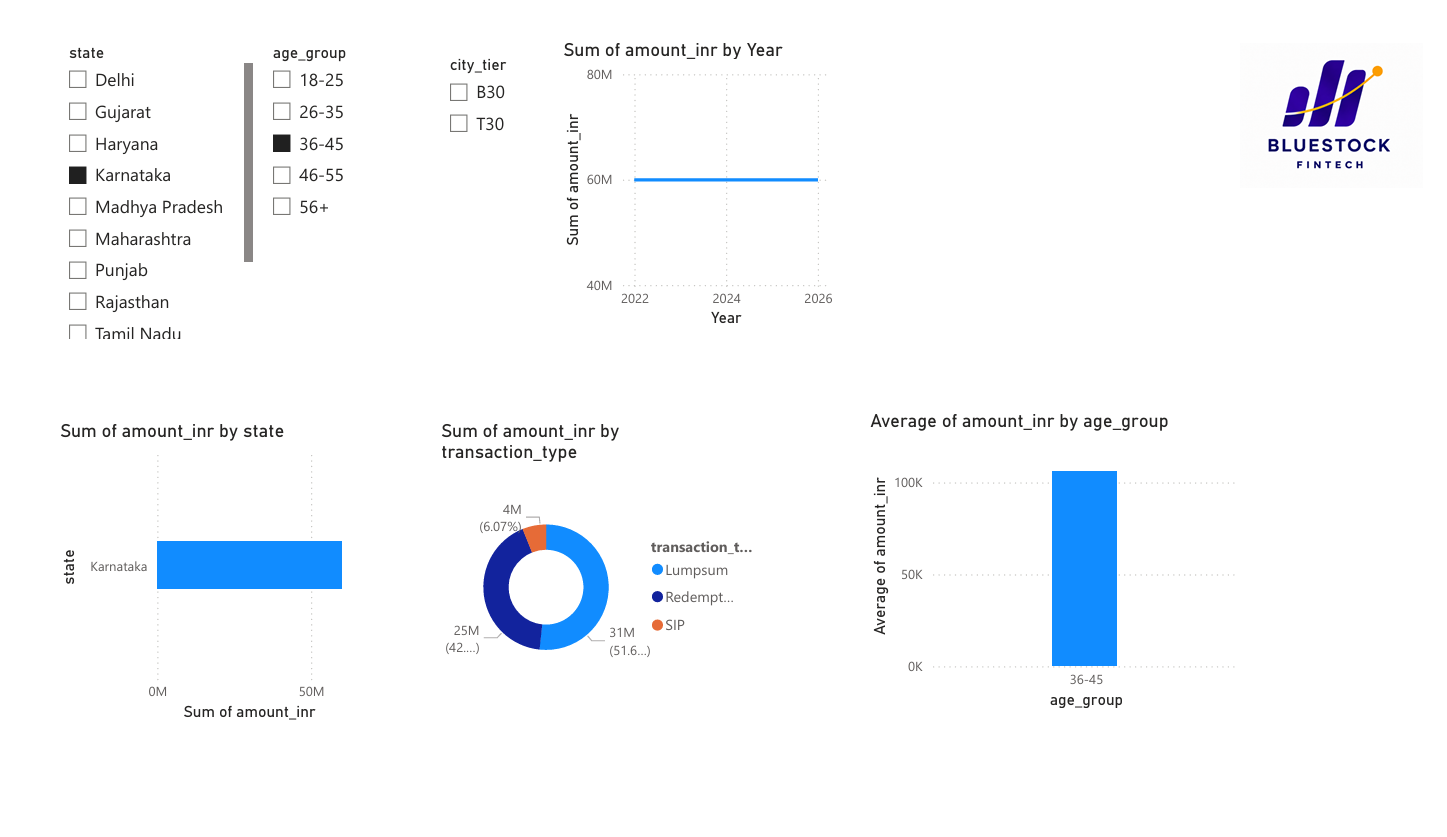

This screenshot's page, from the dashboard's own definition file:
{"tool":"powerbi","page":{"name":"Page 3","canvas":[1280,720],"ordinal":2},"visuals":[{"type":"slicer","fields":{"Values":["clean_transaction.state"]},"box":[26.7,11.1,187.8,280],"z":0},{"type":"slicer","fields":{"Values":["clean_transaction.city_tier"]},"box":[375.6,22.2,125.6,268.9],"z":1000},{"type":"slicer","fields":{"Values":["clean_transaction.age_group"]},"box":[214.4,11.1,143.3,268.9],"z":2000},{"type":"clusteredBarChart","fields":{"Category":["clean_transaction.state"],"Y":["Sum(clean_transaction.amount_inr)"]},"box":[26.7,360,280,280],"z":3000},{"type":"donutChart","fields":{"Category":["clean_transaction.transaction_type"],"Y":["Sum(clean_transaction.amount_inr)"]},"box":[375.6,360,300,268.9],"z":4000},{"type":"clusteredColumnChart","fields":{"Y":["Avg(clean_transaction.amount_inr)"],"Category":["clean_transaction.age_group"]},"box":[768.9,351.1,347.8,277.8],"z":5000},{"type":"lineChart","fields":{"Category":["10_benchmark_indices.date.Variation.Date Hierarchy.Year","10_benchmark_indices.date.Variation.Date Hierarchy.Quarter","10_benchmark_indices.date.Variation.Date Hierarchy.Month","10_benchmark_indices.date.Variation.Date Hierarchy.Day"],"Y":["Sum(clean_transaction.amount_inr)"]},"box":[487.8,11.1,256.7,268.9],"z":6000},{"type":"image","box":[1113.3,0,166.7,164.4],"z":6001}]}

Visuals, with their boxes in screenshot pixels (x1, y1, x2, y2), scaled from the page's 1280x720 canvas onto the 1447x837 screenshot:
slicer - clean_transaction.state: [30, 13, 242, 338]
slicer - clean_transaction.city_tier: [425, 26, 567, 338]
slicer - clean_transaction.age_group: [242, 13, 404, 326]
clusteredBarChart - clean_transaction.state x Sum(clean_transaction.amount_inr): [30, 419, 347, 744]
donutChart - clean_transaction.transaction_type x Sum(clean_transaction.amount_inr): [425, 419, 764, 731]
clusteredColumnChart - Avg(clean_transaction.amount_inr) x clean_transaction.age_group: [869, 408, 1262, 731]
lineChart - 10_benchmark_indices.date.Variation.Date Hierarchy.Year x 10_benchmark_indices.date.Variation.Date Hierarchy.Quarter: [551, 13, 842, 326]
image: [1259, 0, 1446, 191]
